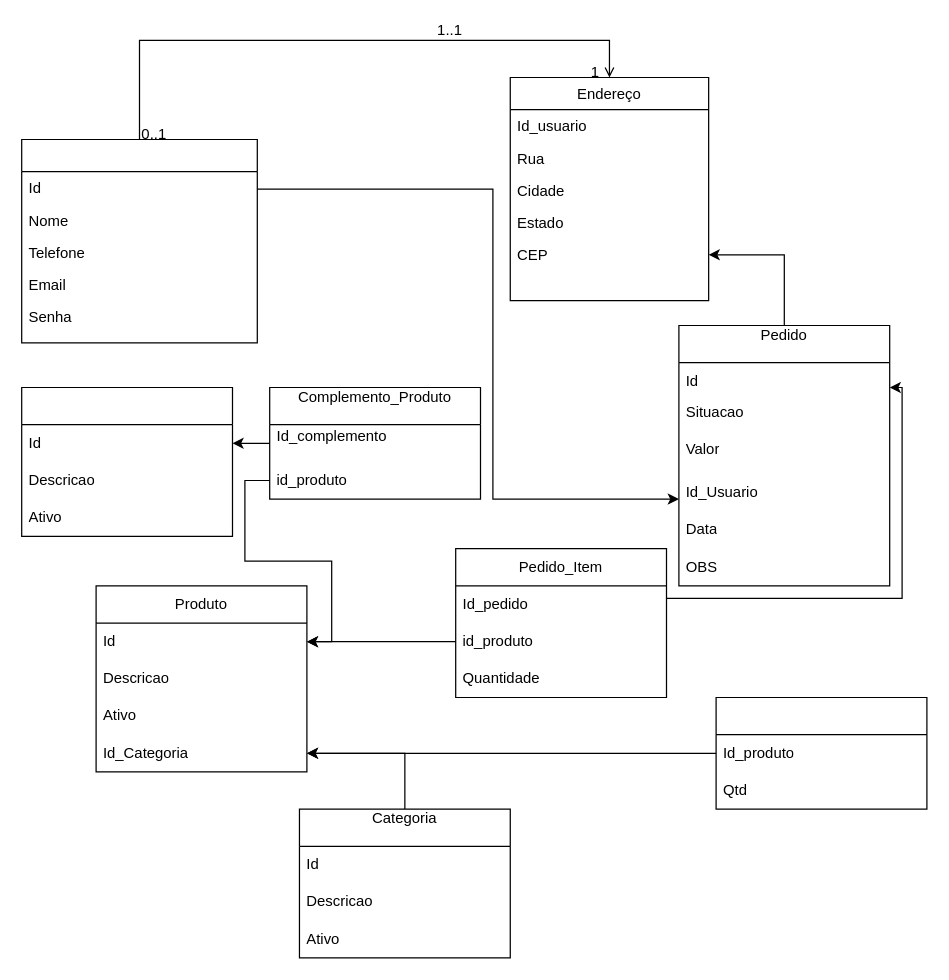
Image size: 949x980. Some labels were removed from this diagram. The shapes that lost their labels are listed below. From the top down, each one's box as (x1, y1, x2, y2) in pixels, then its label:
(20, 138, 257, 343): Usuario
(20, 386, 232, 536): Complemento
(715, 696, 927, 809): Estoque
